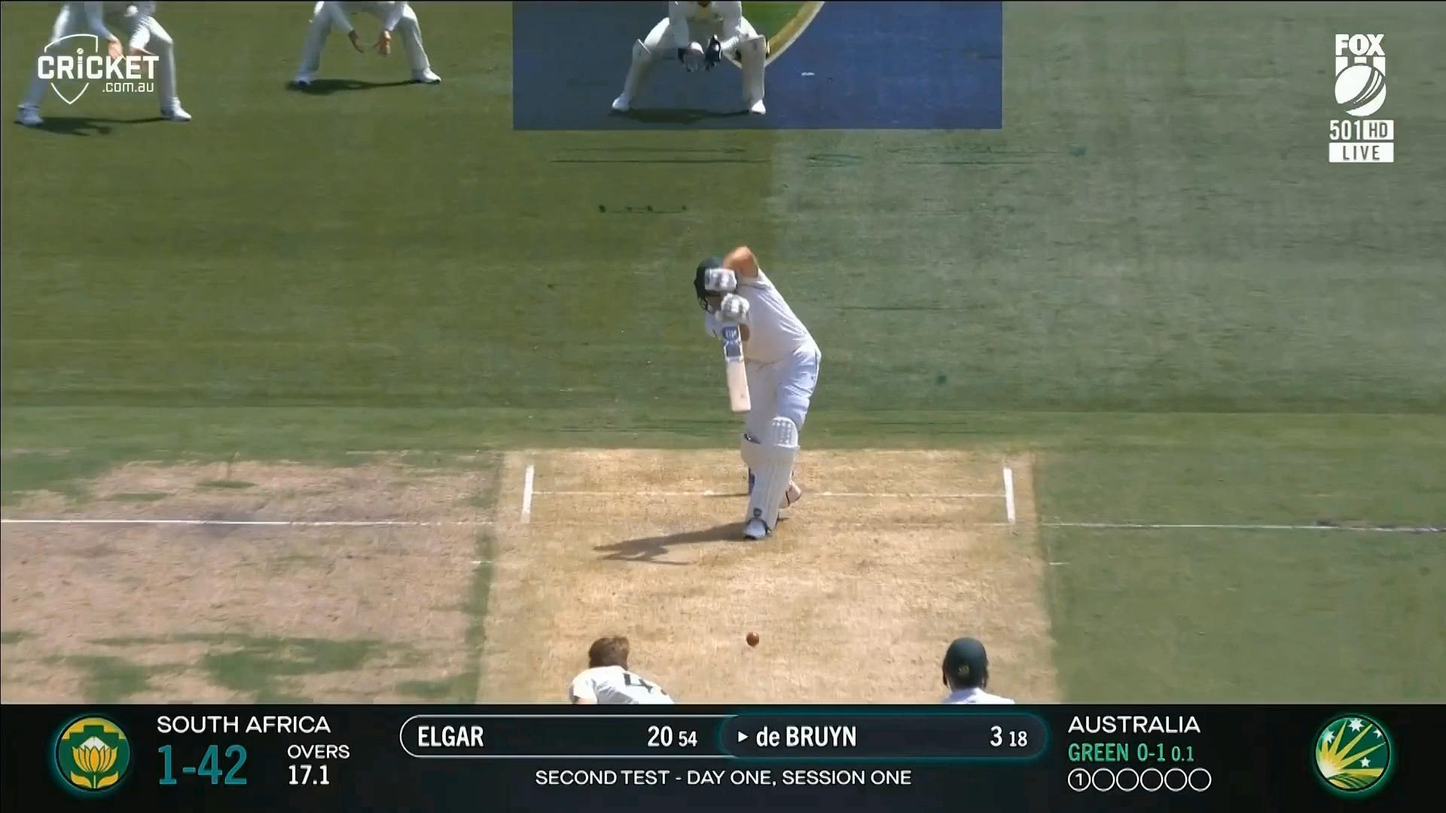BM 1: (691, 243, 824, 542)
BO: (565, 633, 723, 813)
